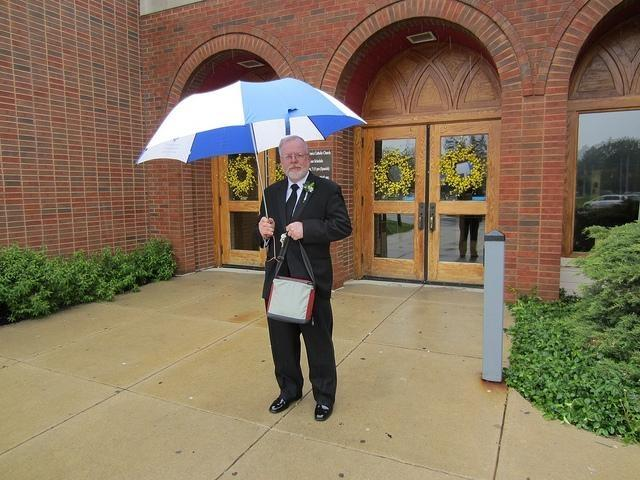car: (582, 194, 628, 210)
